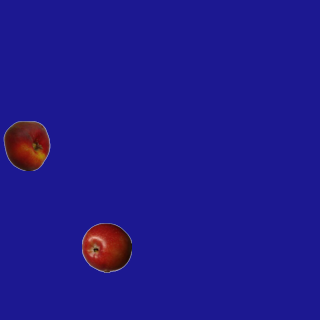Apple Braeburn: (81, 222, 131, 272)
Nectarine Flat: (1, 120, 51, 170)
